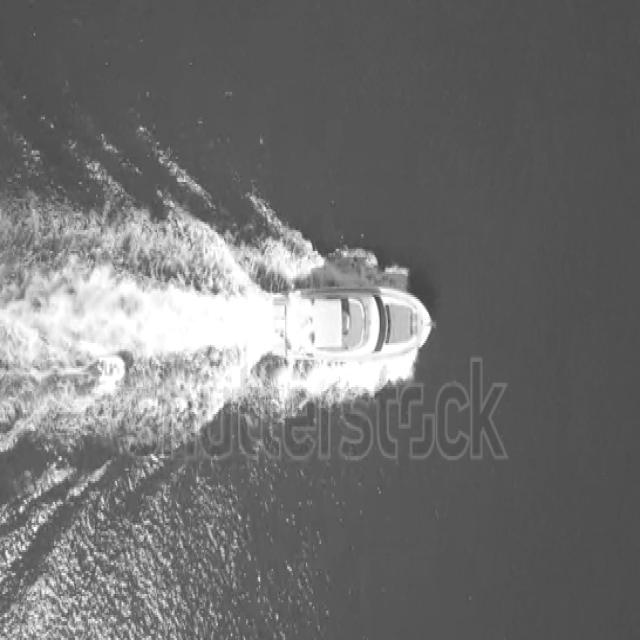ship: (264, 276, 438, 360)
